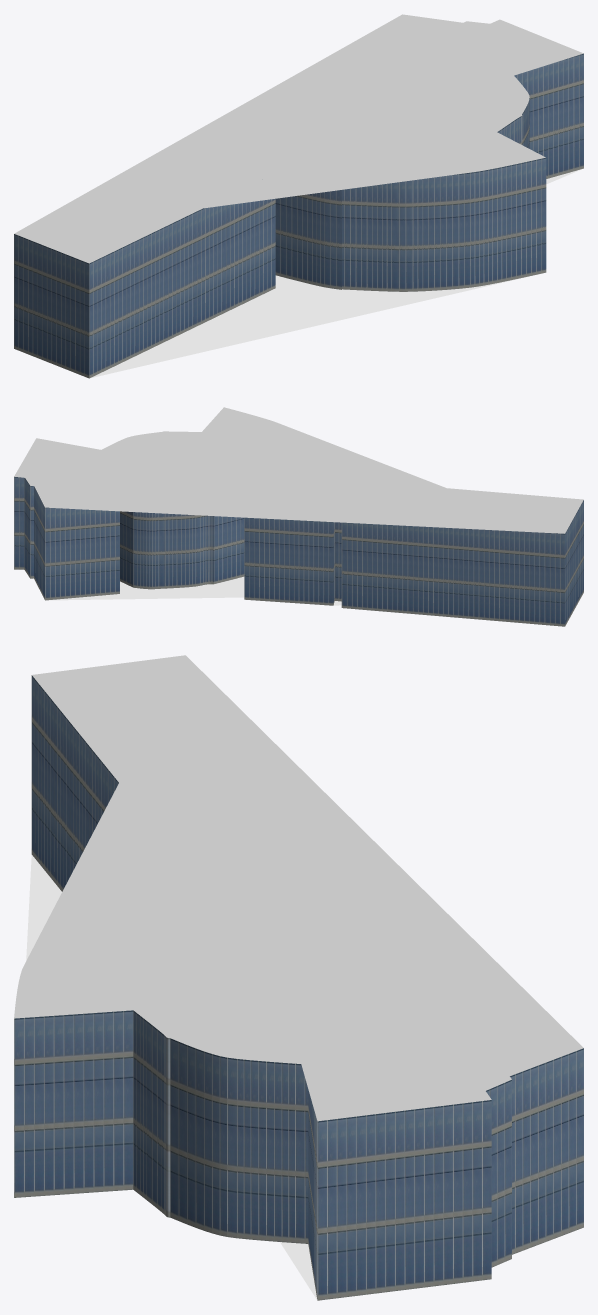
File: yishudalou.fbx
The picture shows the model from 3 angles, top to bottom: view 1: azimuth 30°, elevation 25°; view 2: azimuth 150°, elevation 25°; view 3: azimuth 270°, elevation 25°; orthographic projection. The views are drawn at different scales.
Parts seen in each view (by area): view 1: CityEngineMaterial_2_m, CityEngineMaterial_m, CityEngineMaterial_1_m; view 2: CityEngineMaterial_2_m, CityEngineMaterial_m, CityEngineMaterial_1_m; view 3: CityEngineMaterial_m, CityEngineMaterial_2_m, CityEngineMaterial_1_m.
Part boxes in pixels (<box>): CityEngineMaterial_2_m: <box>14,53,583,378</box>; CityEngineMaterial_m: <box>14,14,583,263</box>; CityEngineMaterial_1_m: <box>90,169,581,378</box>; CityEngineMaterial_2_m: <box>14,476,583,626</box>; CityEngineMaterial_m: <box>14,407,583,533</box>; CityEngineMaterial_1_m: <box>19,569,341,605</box>; CityEngineMaterial_m: <box>14,655,583,1121</box>; CityEngineMaterial_2_m: <box>14,675,583,1300</box>; CityEngineMaterial_1_m: <box>26,855,317,1299</box>.
Size of the model in its own units: 111 by 20 by 57.59.
